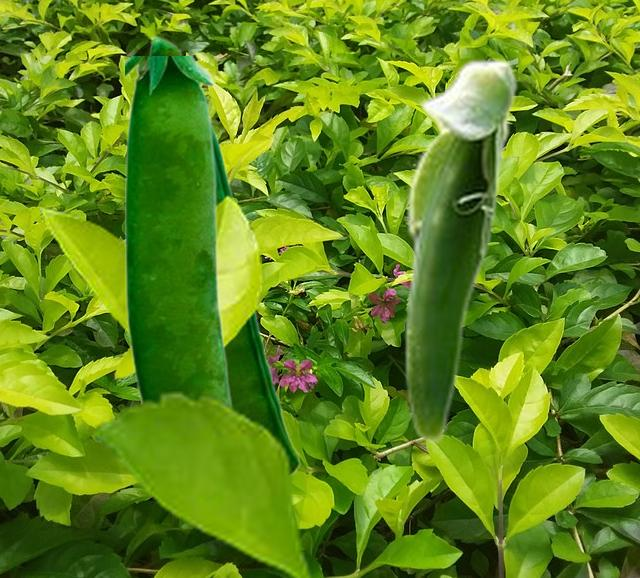pea: (146, 34, 299, 473), (403, 58, 518, 443), (125, 56, 235, 404)
